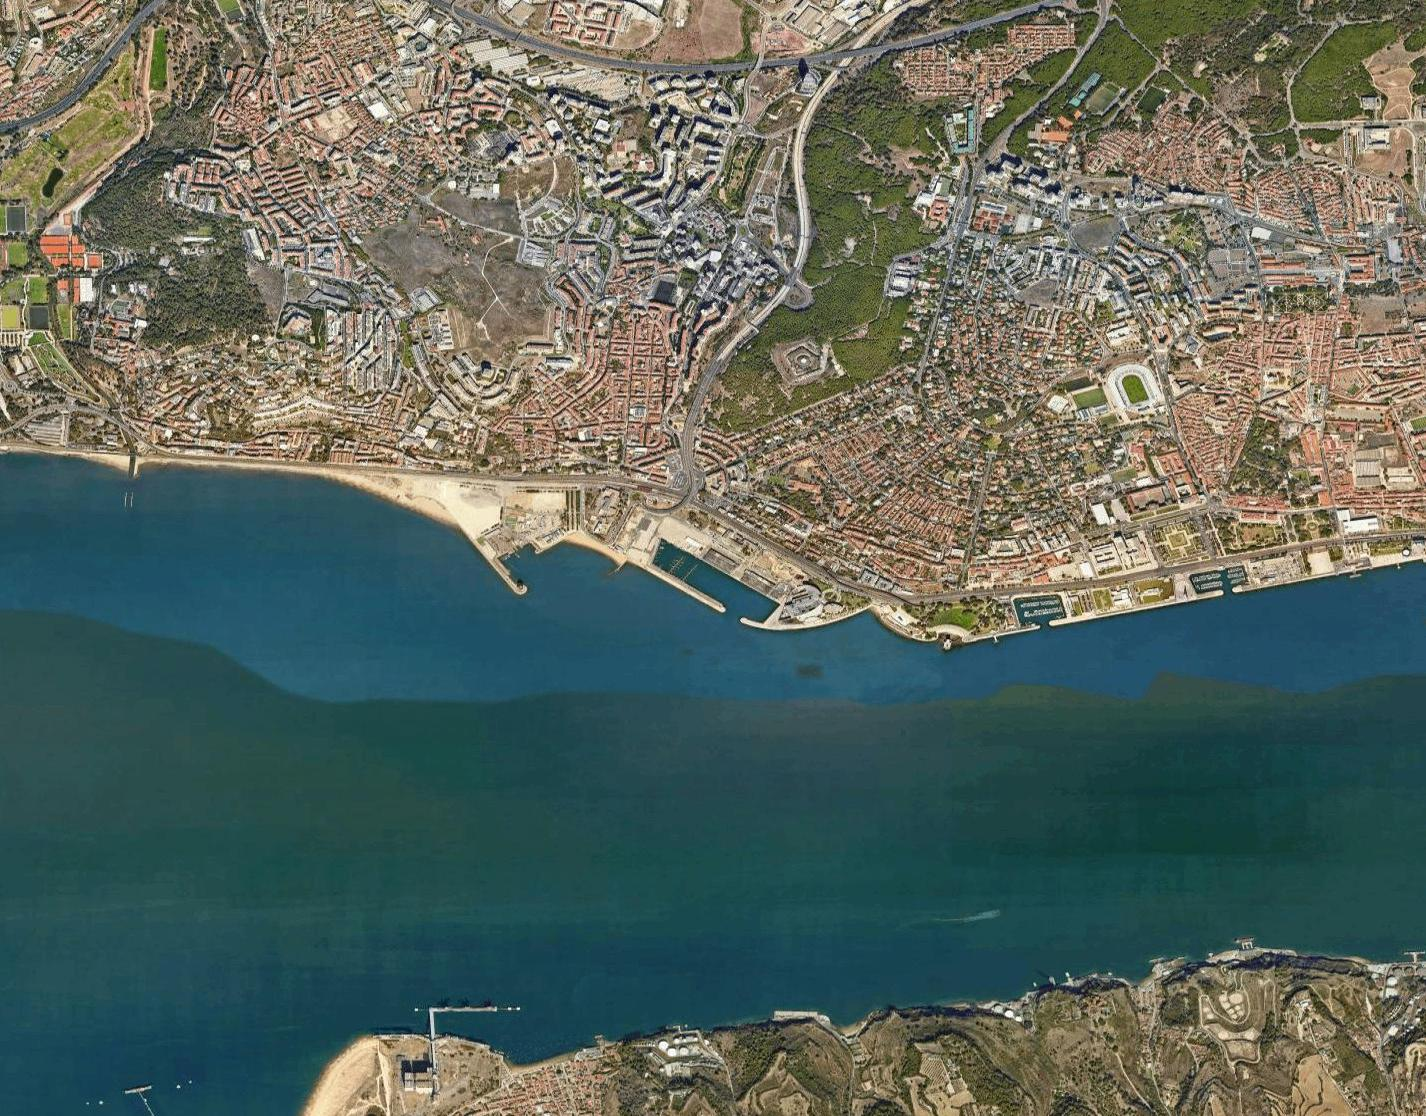harbor: (388, 460, 853, 680)
motorway: (892, 1, 1038, 60), (427, 1, 569, 53), (1, 73, 94, 146), (90, 1, 184, 73), (716, 277, 792, 365), (670, 362, 726, 480), (743, 34, 891, 76), (571, 49, 738, 80), (782, 164, 819, 277), (793, 68, 836, 164)
